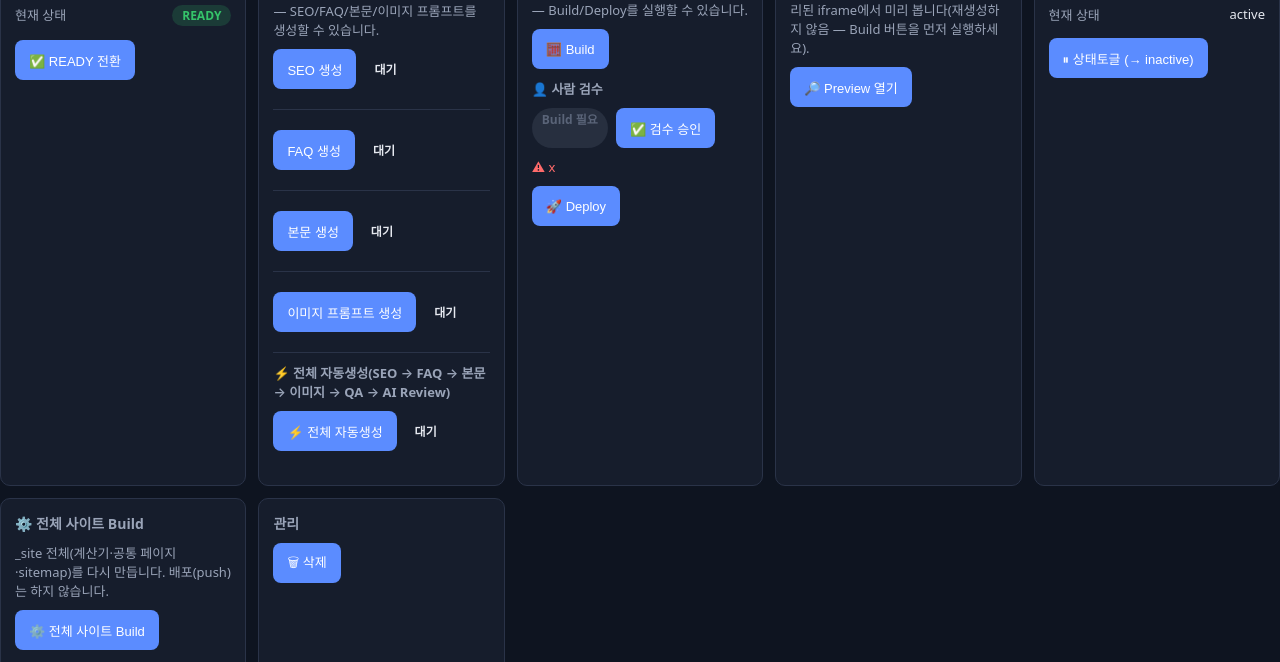
Test: GAP-03 전체 사이트 Build › shows loading and blocks duplicate clicks
(page scrolled)
Click the button "⚙️ 전체 사이트 Build": (87, 630) [15,610,159,650]
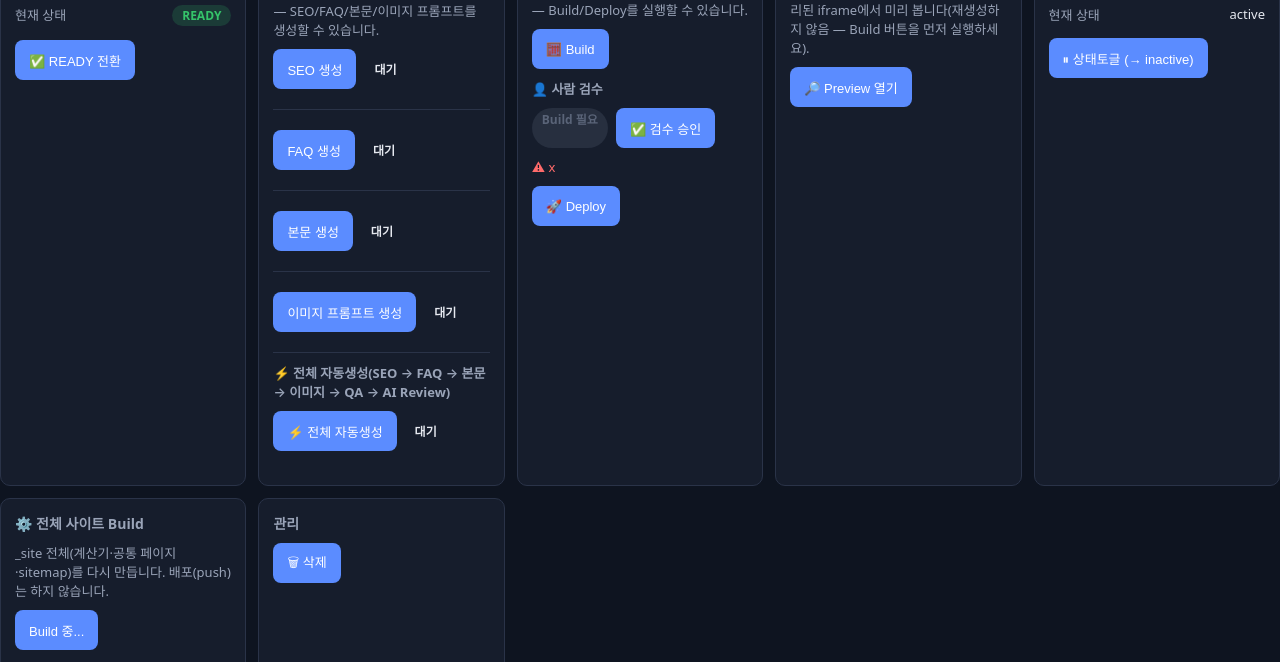
Expected: the button "Build 중..." is disabled
Click the button "Build 중...": (57, 630) [15,610,98,650]
(page scrolled)
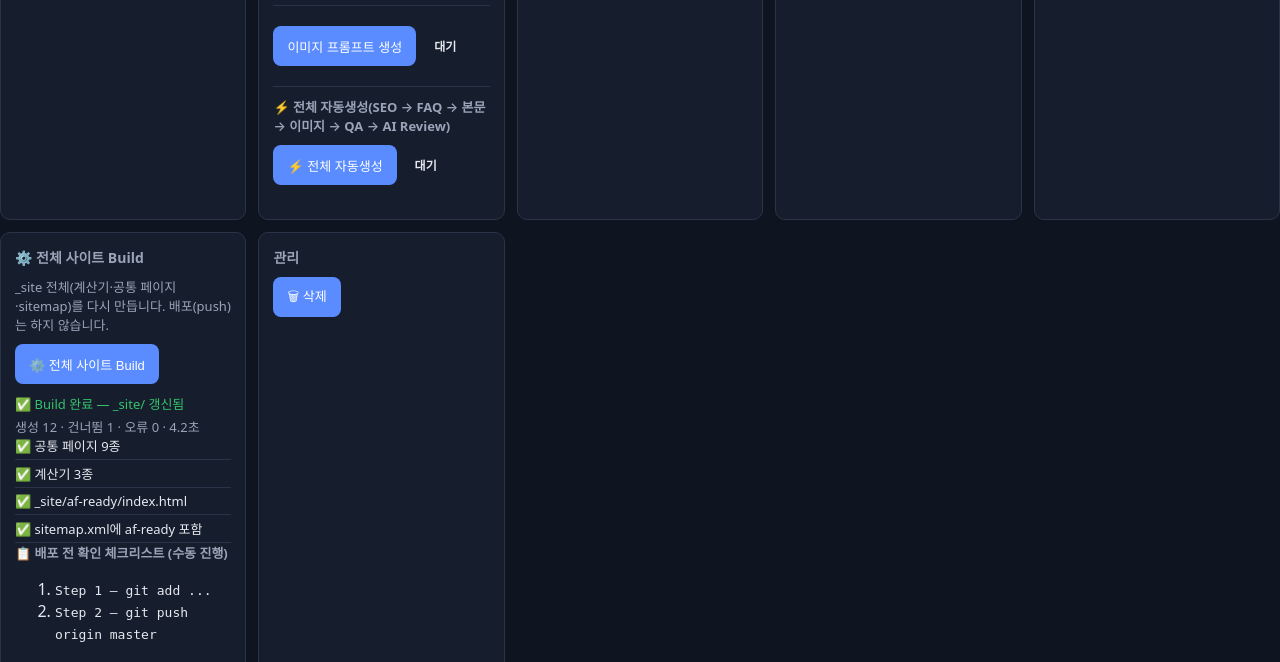
Expected: the text "✅ Build 완료 — _site/ 갱신됨" is shown, [15,395,184,413]
